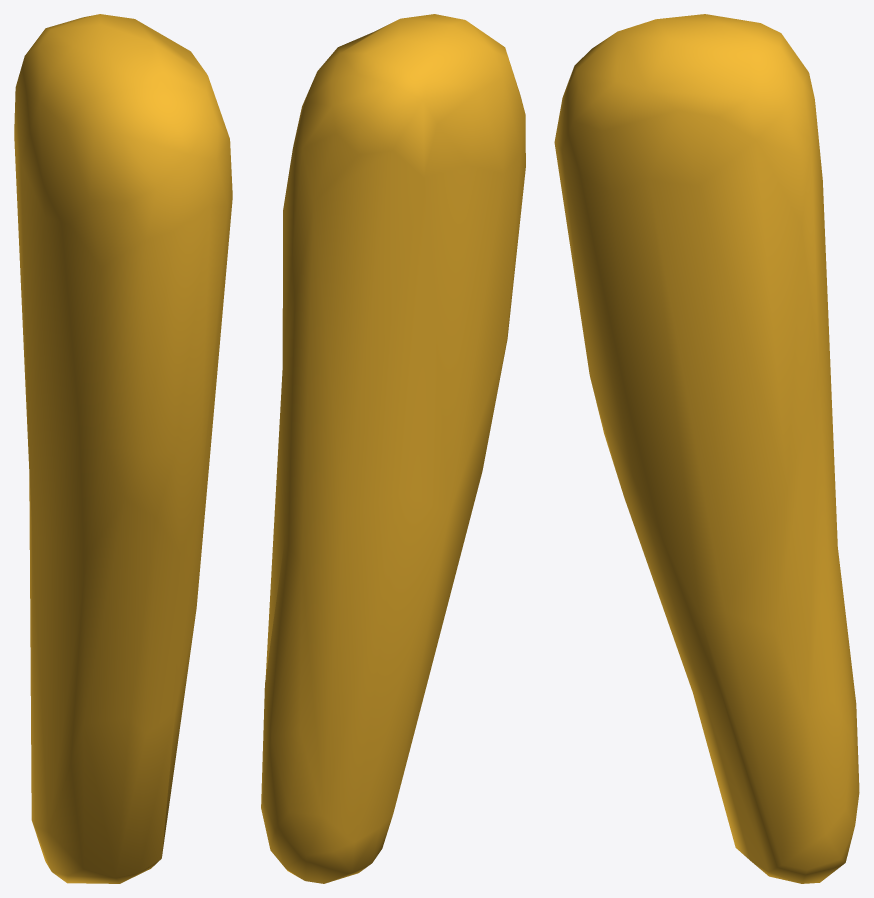
File: nervoso-lacrimal-sac-l.glb
3 views of the same model, side by side, from view 1: azimuth 30°, elevation 25°; view 2: azimuth 150°, elevation 25°; view 3: azimuth 270°, elevation 25° (orthographic). The views are drawn at different scales.
Parts seen in each view (by area): view 1: Lacrimal sac.l; view 2: Lacrimal sac.l; view 3: Lacrimal sac.l.
Boxes of the visible parts, left/top/right/bottom form: Lacrimal sac.l: left=14, top=14, right=232, bottom=883; Lacrimal sac.l: left=261, top=14, right=525, bottom=883; Lacrimal sac.l: left=554, top=14, right=859, bottom=883.
Size of the model in its own units: 0.004 by 0.0184 by 0.0061.
